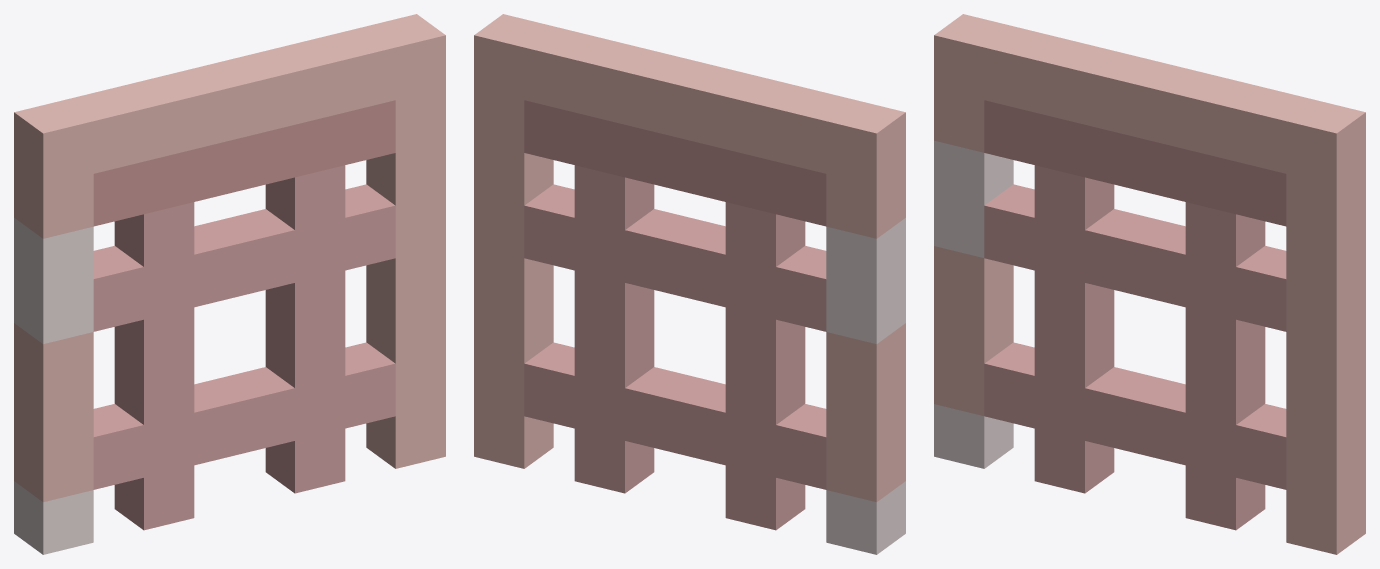
Rendered from _Cherry Door Top.glb.
The picture shows the model from 3 angles, left to right: view 1: azimuth 30°, elevation 25°; view 2: azimuth 150°, elevation 25°; view 3: azimuth 330°, elevation 25°; orthographic projection.
Visible parts, largest first — view 1: generated(Clone); view 2: generated(Clone); view 3: generated(Clone).
Boxes of the visible parts, left/top/right/bottom form: generated(Clone): left=14, top=14, right=445, bottom=554; generated(Clone): left=474, top=14, right=905, bottom=554; generated(Clone): left=934, top=14, right=1365, bottom=554.
Bounding box in the file's own units: 8 × 8 × 1.
1 material, 1 textured.
